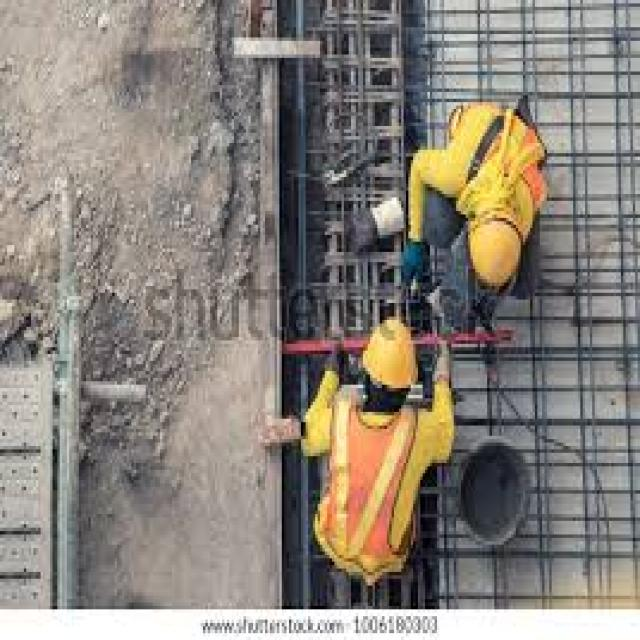Reflective-Jacket: (315, 395, 430, 579)
Safety-Helmet: (458, 208, 532, 306), (354, 306, 425, 405)
